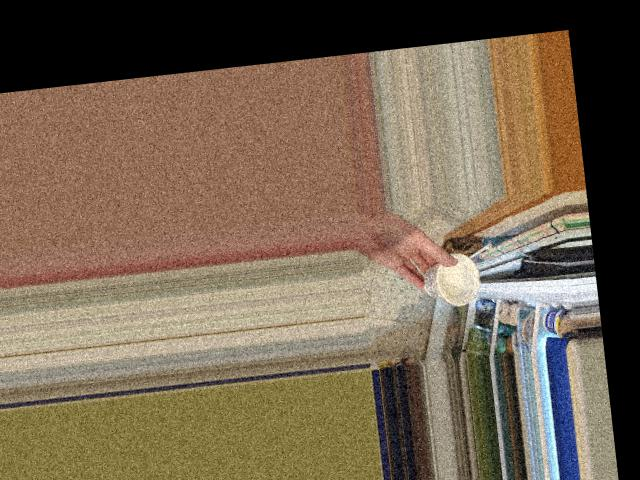cotage: (418, 257, 487, 301)
